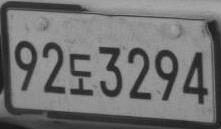2: (41, 41, 66, 94), (126, 46, 151, 99)
3: (98, 45, 123, 98)
4: (181, 51, 209, 105)
9: (154, 48, 178, 101), (13, 40, 37, 91)
도: (68, 52, 93, 96)
